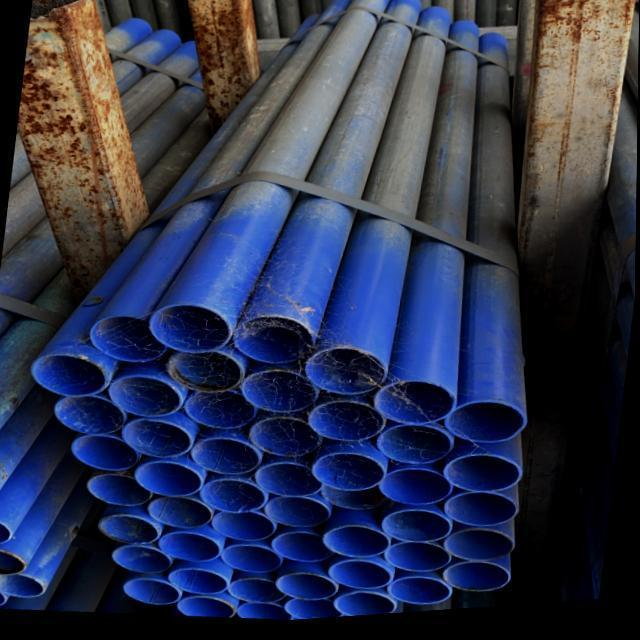pipe: (228, 319, 314, 371), (146, 305, 228, 354), (86, 314, 167, 363), (306, 353, 388, 401), (241, 368, 321, 417), (245, 417, 326, 465), (67, 432, 154, 474), (190, 430, 261, 481), (377, 384, 457, 429), (441, 406, 526, 448), (50, 394, 129, 439), (179, 390, 267, 430), (166, 352, 244, 397), (27, 351, 104, 396), (103, 372, 178, 418), (376, 467, 454, 511), (435, 457, 519, 497), (376, 427, 453, 470), (308, 402, 385, 444), (84, 470, 164, 510), (314, 452, 388, 495), (112, 416, 189, 456), (435, 496, 518, 533), (251, 458, 324, 499), (133, 457, 205, 498), (266, 530, 347, 565), (198, 475, 269, 514), (377, 513, 456, 548), (260, 498, 333, 534), (143, 494, 215, 530), (109, 543, 177, 581), (370, 545, 455, 575), (319, 525, 387, 561), (96, 512, 162, 548), (440, 563, 511, 596), (218, 541, 283, 577), (272, 572, 344, 604), (203, 512, 281, 541), (445, 537, 510, 571), (155, 528, 219, 562), (222, 577, 283, 609), (382, 579, 447, 609), (162, 564, 226, 594), (325, 563, 386, 594), (121, 576, 182, 606), (315, 489, 390, 512), (331, 594, 395, 620), (173, 595, 238, 620), (285, 601, 343, 623), (235, 604, 298, 624), (0, 572, 40, 596), (0, 547, 26, 573), (0, 523, 12, 543)
